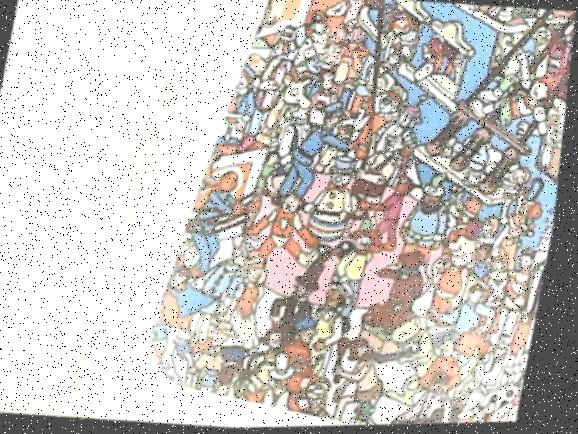waldo: (319, 28, 346, 69)
